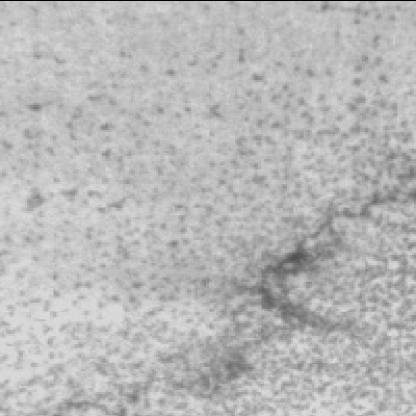pitted_surface: (0, 10, 404, 416)
